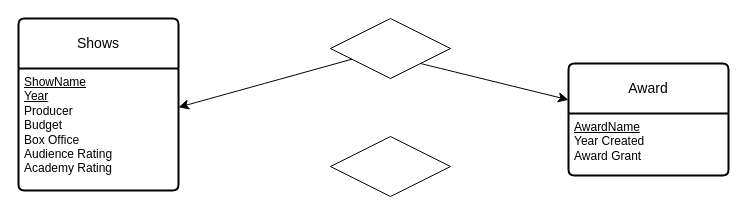
The diagram is 746 pixels wide and 214 high, and some of its shapes have lost their labels. Here are the shapes that lost their labels. From the top down, the centre of each, then its label:
At point 390,48: "nominated".
At point 390,166: "won".
